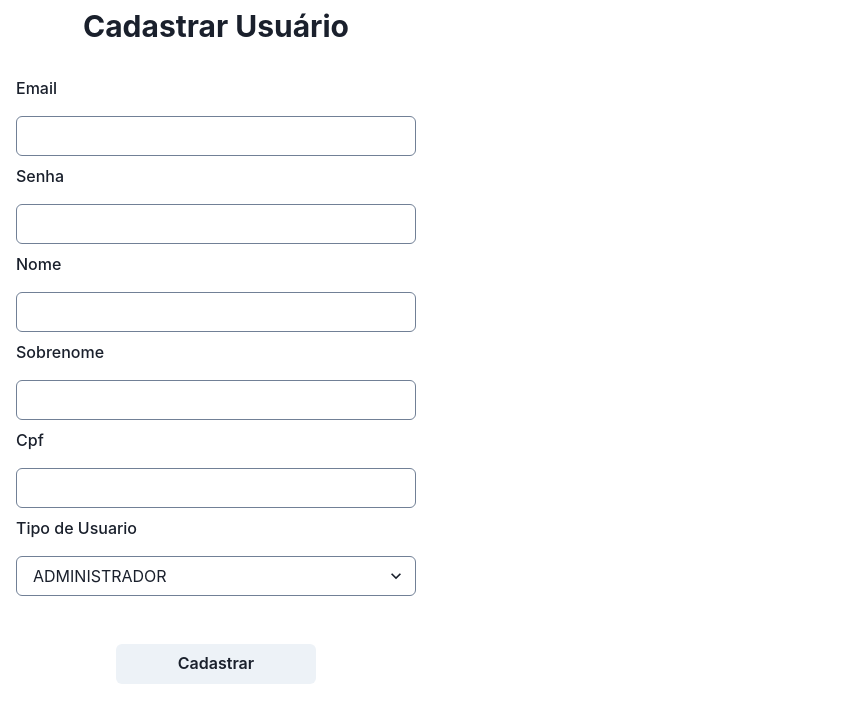
Testando página de cadastro › Deve falhar ao cadastrar usuário com senha inválida
In the field with test id "input-email": (216, 136) [16,116,416,156], type "novoUsuario@email.com"
In the password field with test id "input-senha": (216, 224) [16,204,416,244], type "12345"
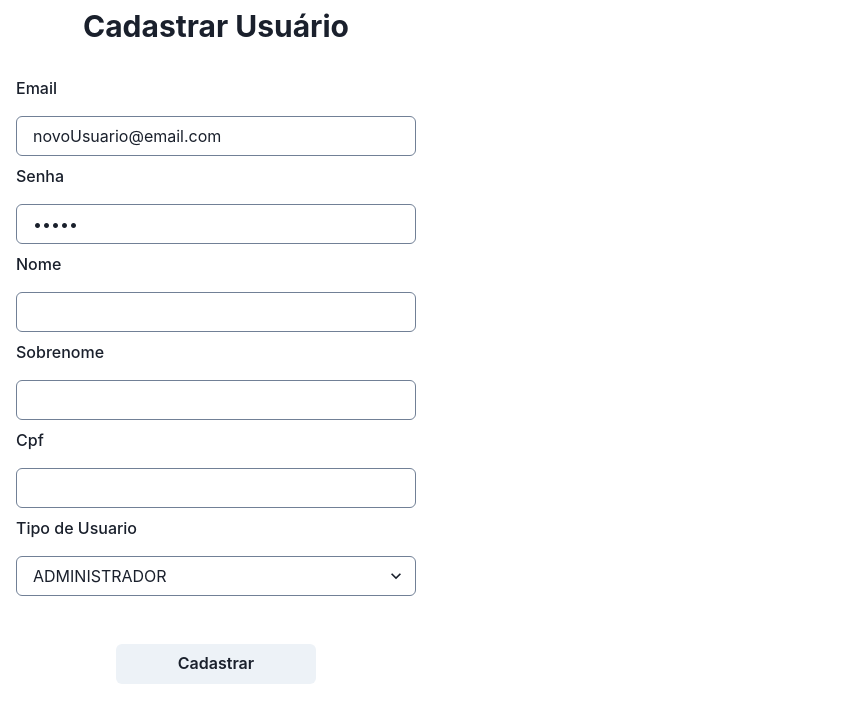
In the field with test id "input-nome": (216, 312) [16,292,416,332], type "João"
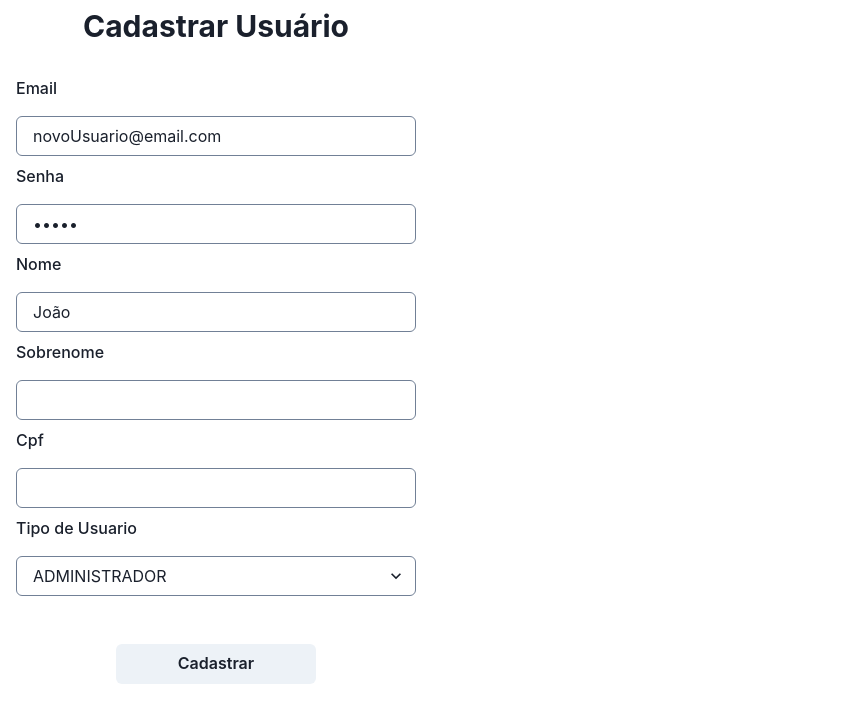
In the field with test id "input-sobrenome": (216, 400) [16,380,416,420], type "Silva"
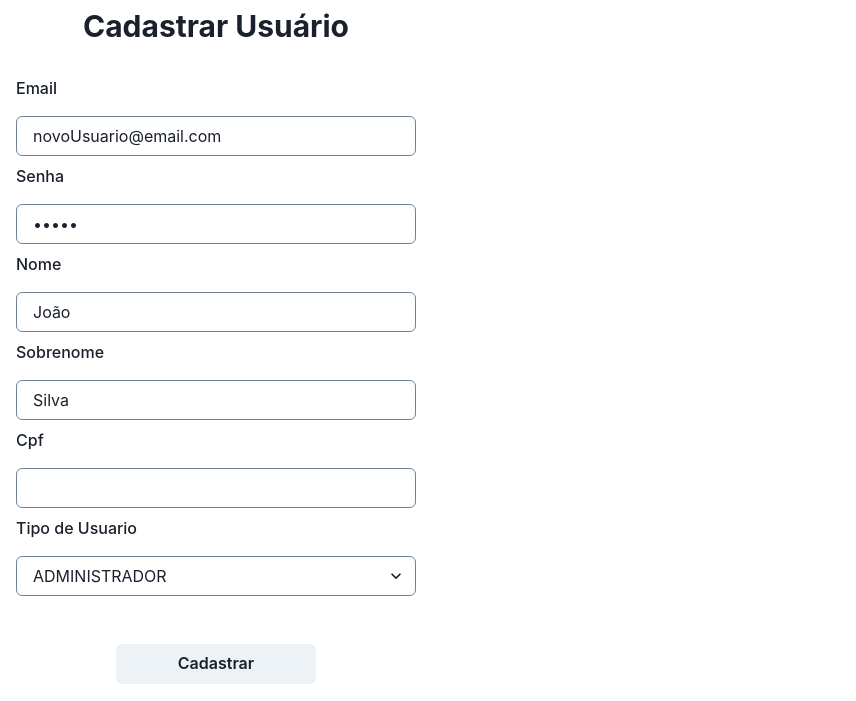
In the field with test id "input-cpf": (216, 488) [16,468,416,508], type "12345678900"
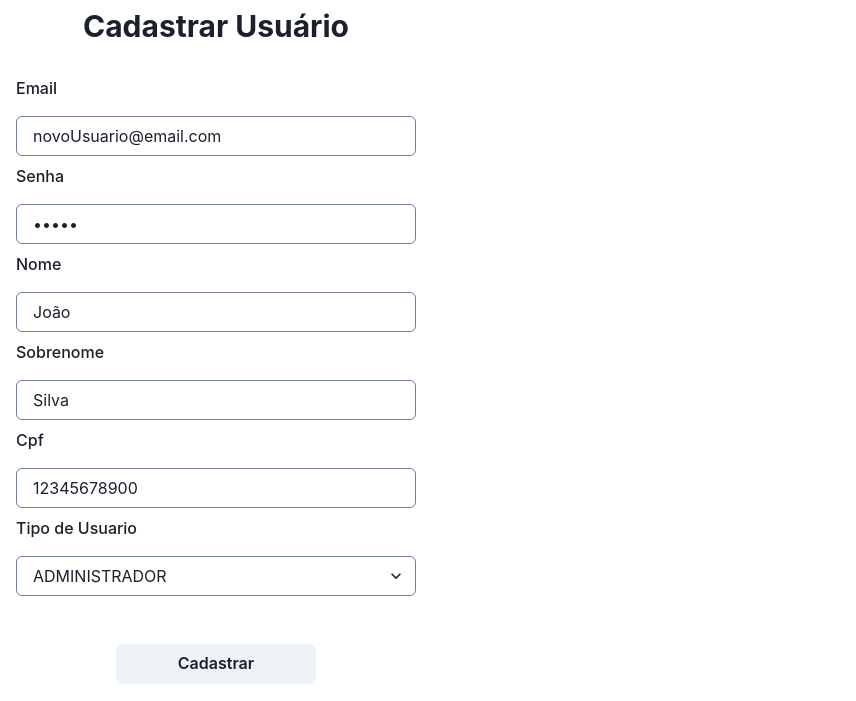
Select "USUARIO" in the dropdown with test id "input-tipoDeUsuario": (216, 576) [16,556,416,596]
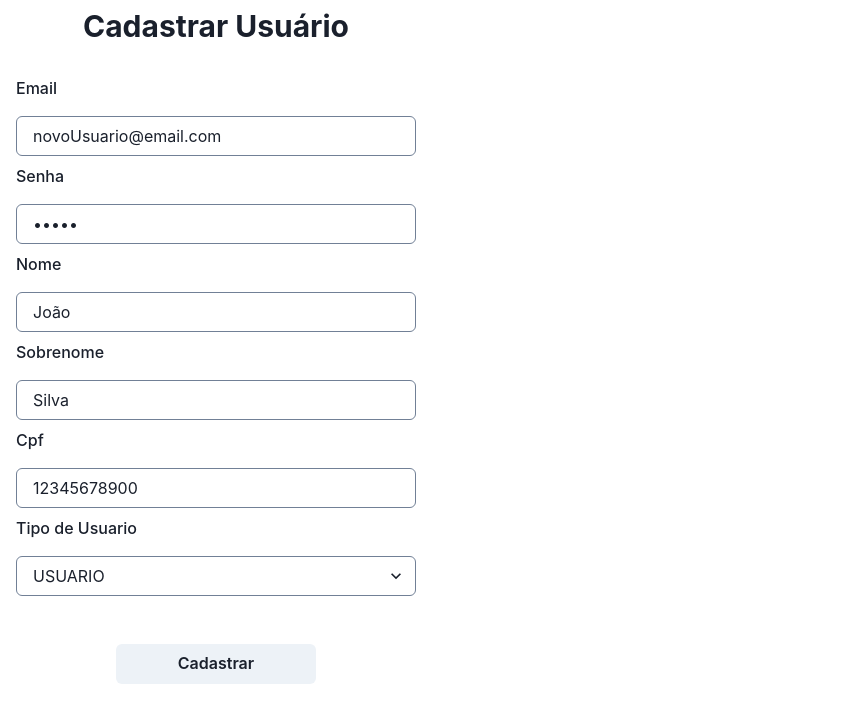
Click the button with test id "botao-criarUsuario": click(216, 664) [116,644,316,684]
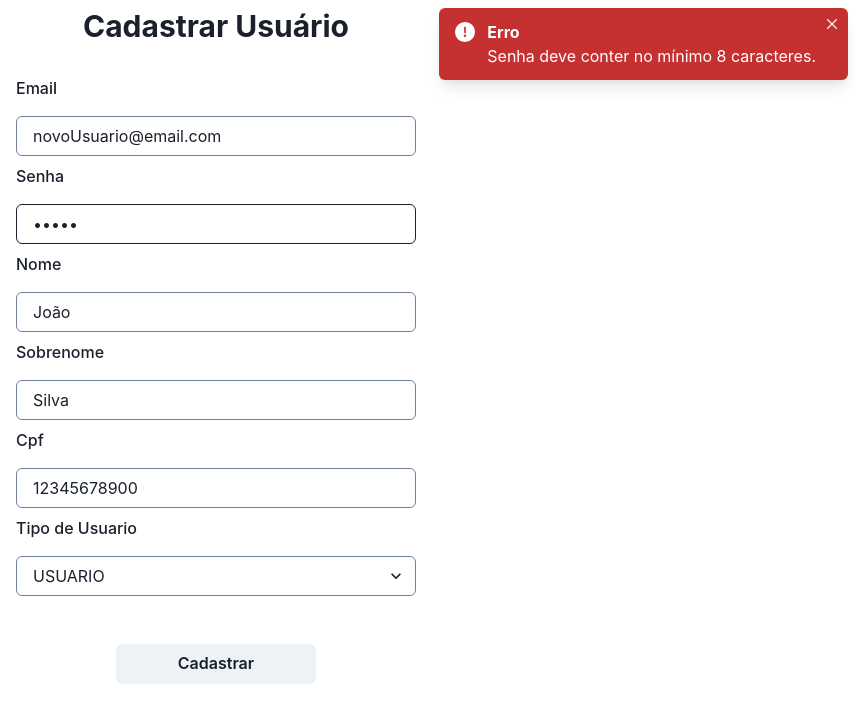
Result: the text "Senha deve conter no mínimo 8 caracteres." is shown at [487,44,816,68]
